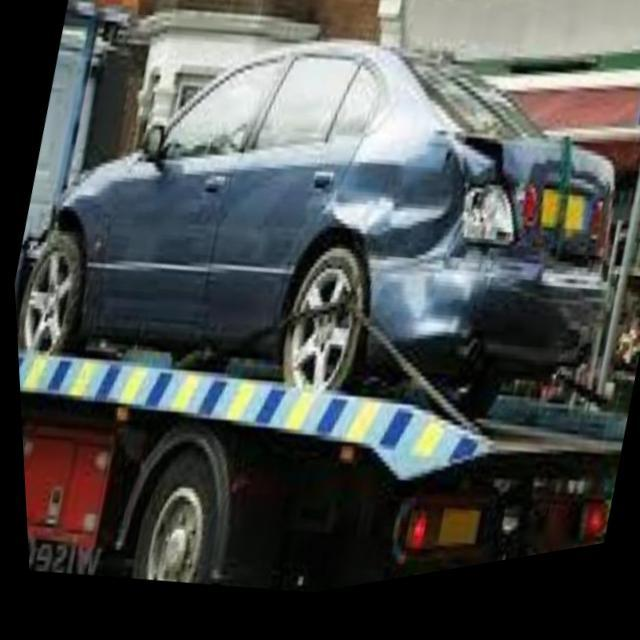dent: (316, 146, 525, 360)
lamp broken: (460, 202, 511, 259)
